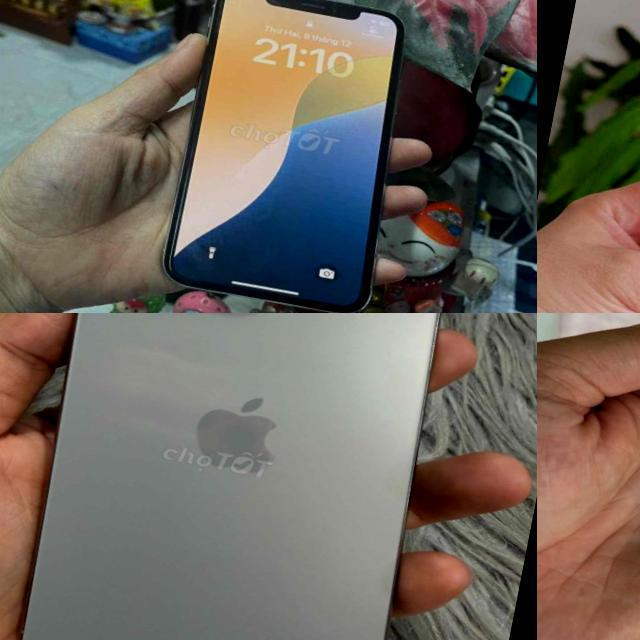gen_15: (0, 313, 489, 640)
gen_x_xs: (155, 0, 435, 313)
